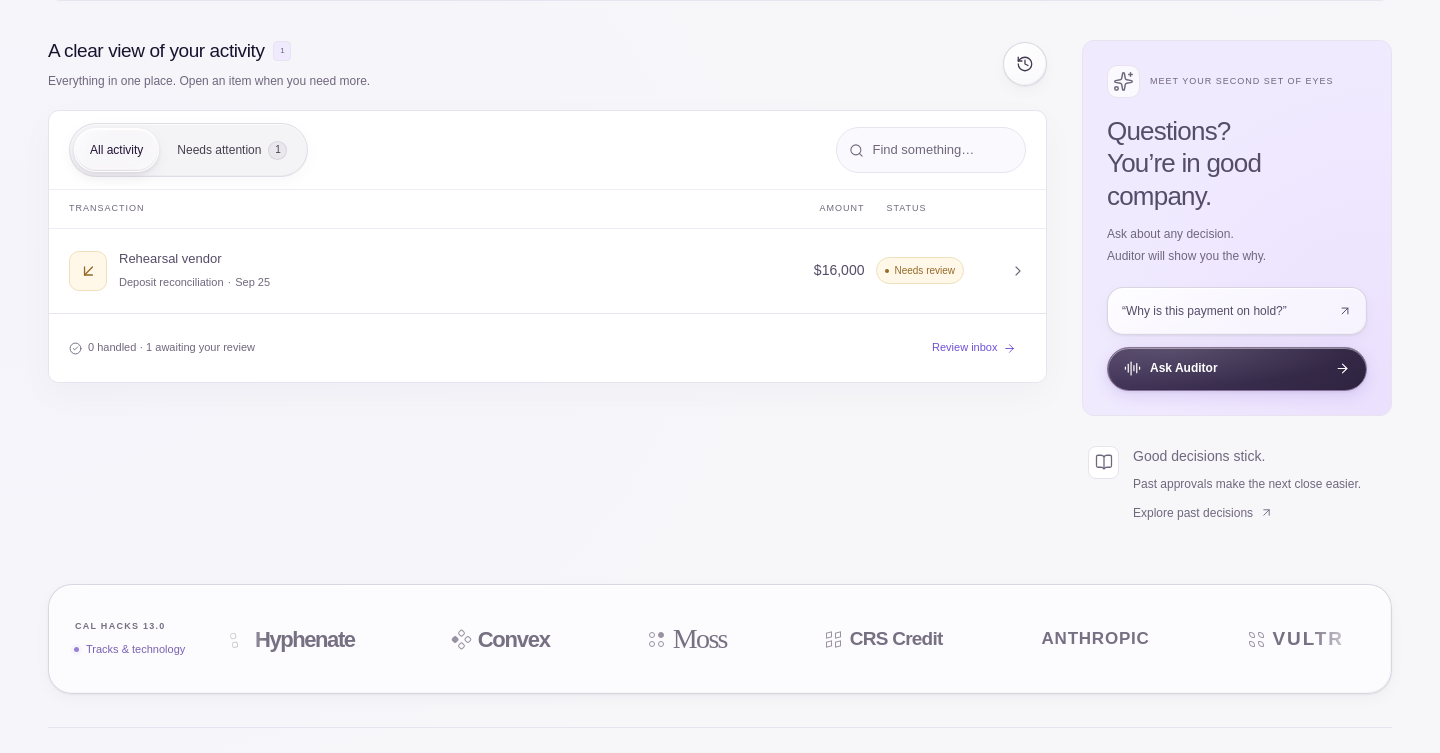
Scenario: live controller rehearsal from the workspace › sends the external proposal code and note, then shows a success toast without inventing a posted record
The width and height of the screenshot is (1440, 753).
(page scrolled)
Click the button "Review inbox" at (974, 348), box [922,326,1026,370]
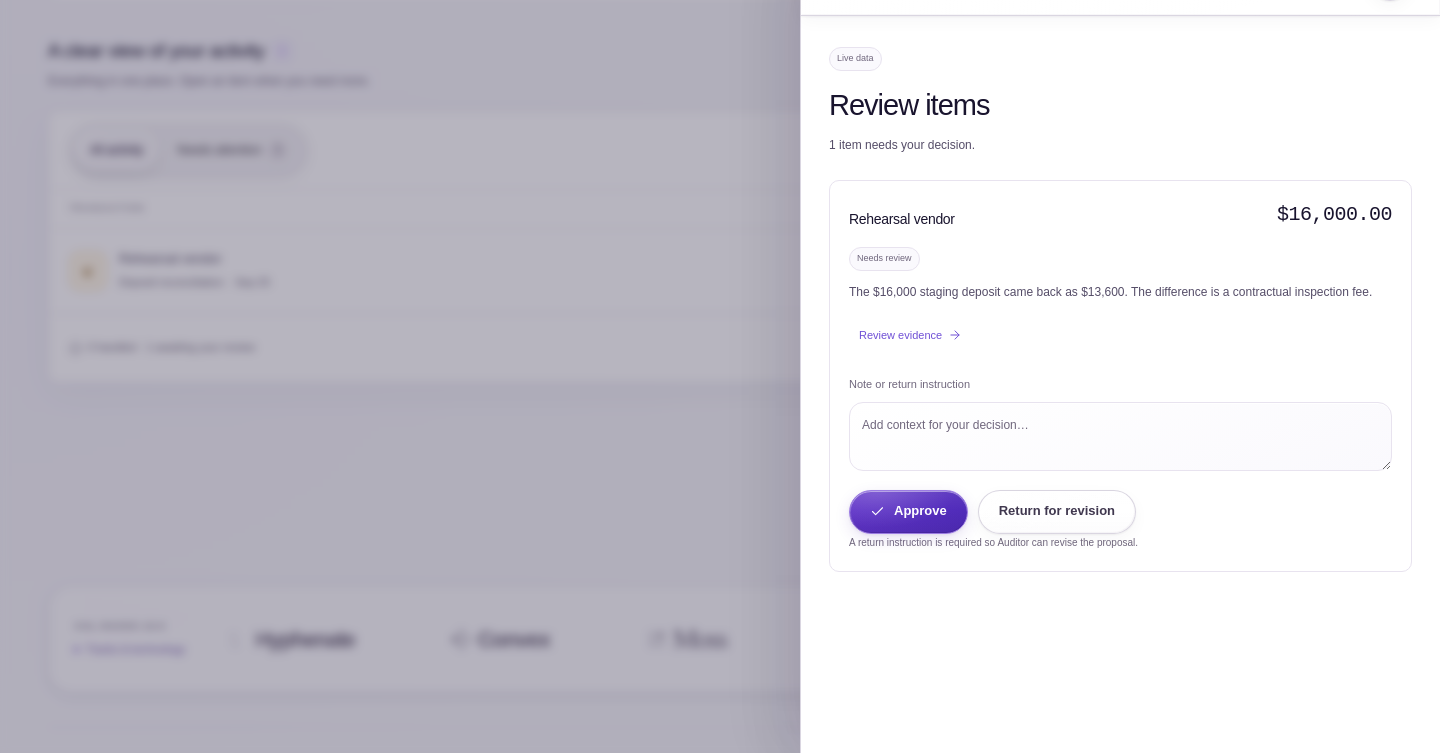
Type "  Supported by the contract.  " into the text box labelled "Note or return instruction" at (1120, 436), box [849,402,1392,471]
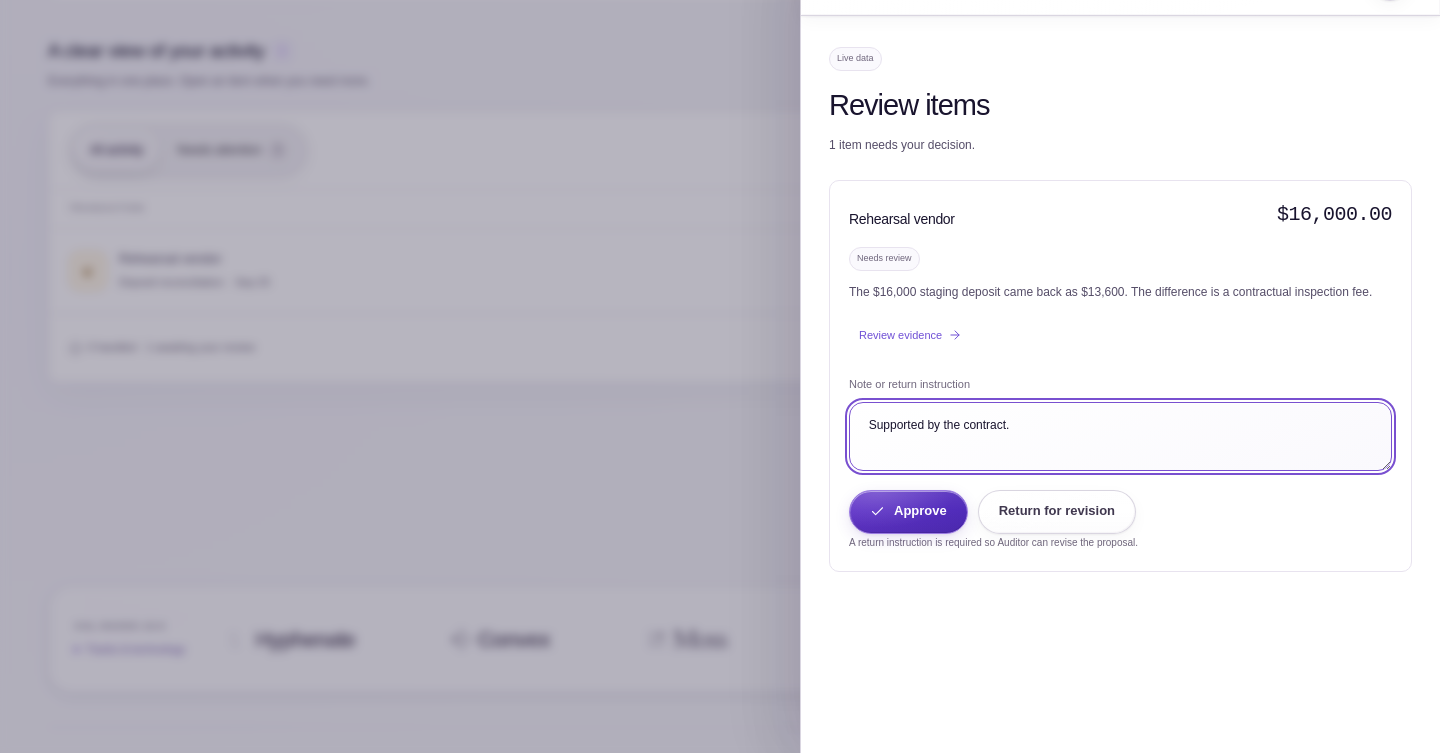
Click the button "Approve" at (908, 512), box [849,490,968,534]
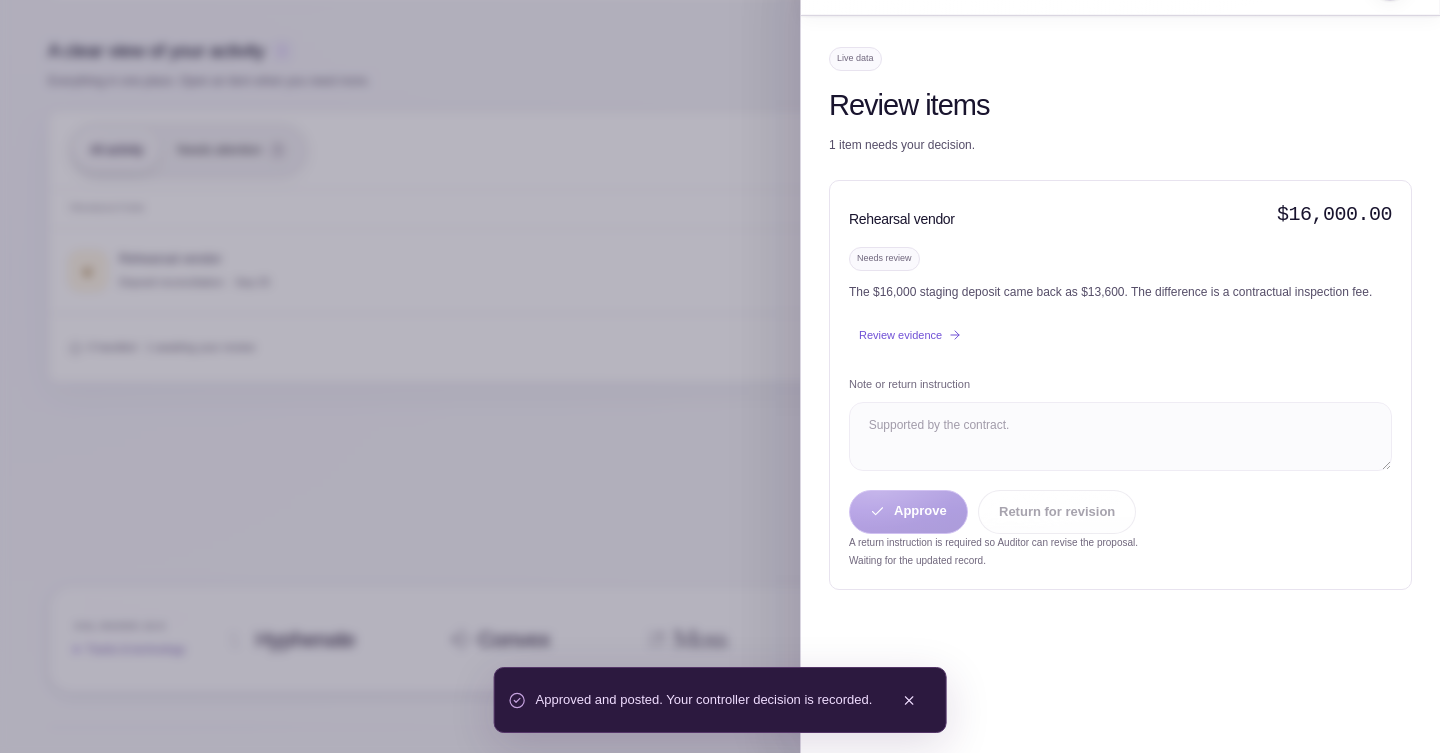
Expected: the text "Approved and posted. Your controller decision is recorded." is shown, [536,690,872,710]
Expected: the text "Waiting for the updated record." is shown, [849,555,986,566]
